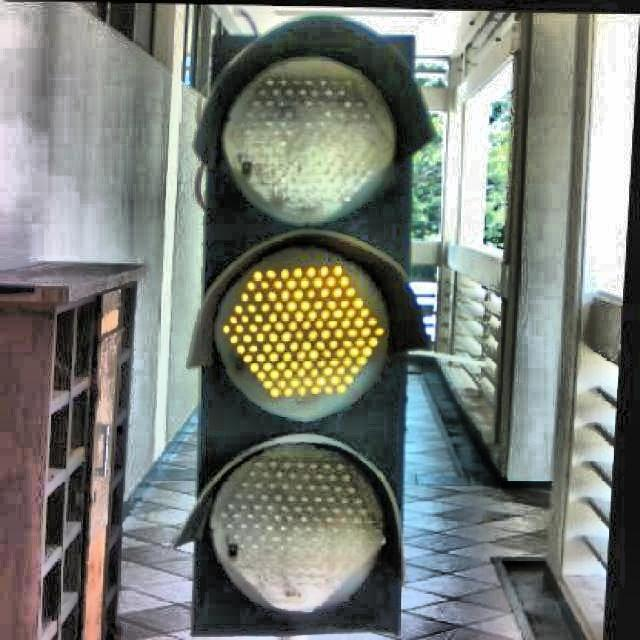yellow: (214, 31, 399, 640)
